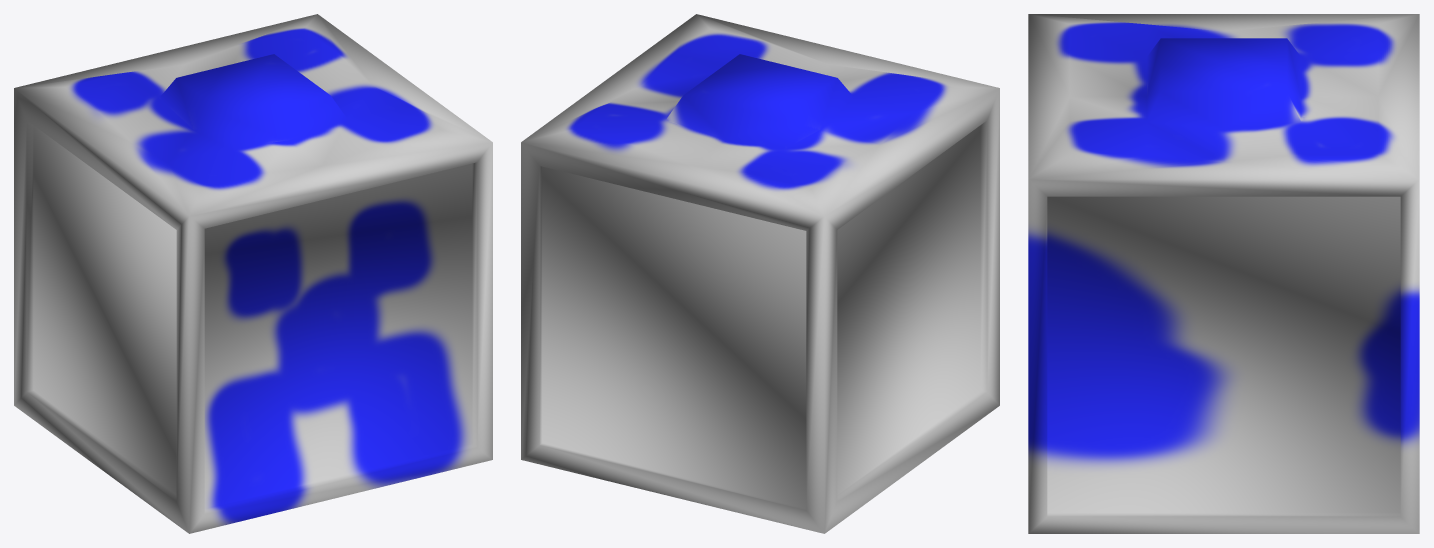
File: super_exclusive.obj
3 renders of one model, left to right at view 1: azimuth 30°, elevation 25°; view 2: azimuth 150°, elevation 25°; view 3: azimuth 270°, elevation 25°, orthographic. The views are drawn at different scales.
Visible parts, largest first — view 1: Cube; view 2: Cube; view 3: Cube.
Boxes of the visible parts, x1,y1,x2,y2 form: Cube: (14,14,492,533); Cube: (521,14,999,533); Cube: (1028,14,1419,533).
Size of the model in its own units: 0.7338 by 0.7996 by 0.7338.
